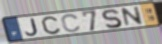7: (81, 9, 99, 32)
C: (61, 13, 83, 33), (41, 15, 62, 35)
J: (24, 17, 40, 37)
N: (120, 6, 145, 28)
S: (101, 8, 124, 30)
